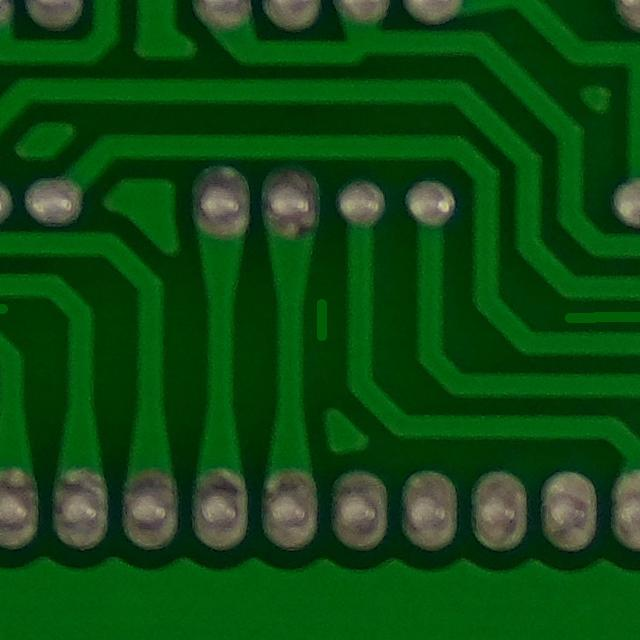spurious_copper: (302, 286, 338, 355)
